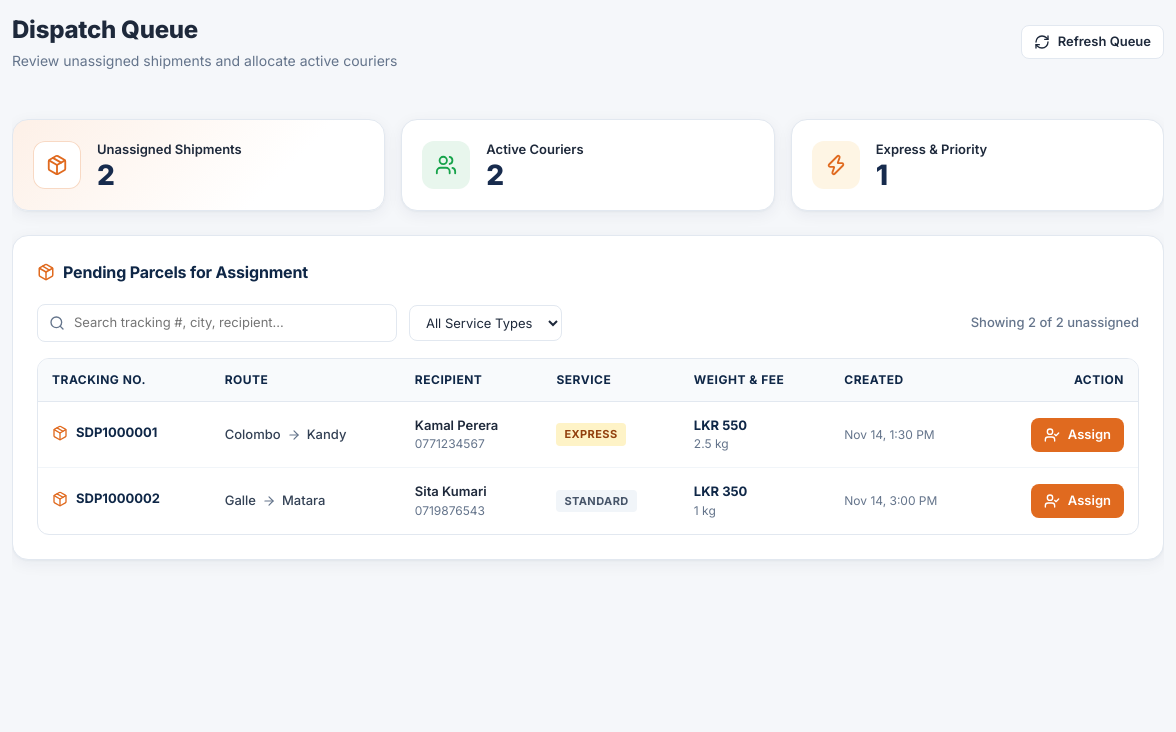
Test: Dispatch Management Page & Assignment Modal - Component Tests › 4. Filters unassigned parcels by search query and service level
Expected: the text "SDP1000001" is shown, [52, 423, 157, 442]
Expected: the text "SDP1000002" is shown, [52, 489, 160, 509]
Search for "Galle"
Type "Galle" into the field named "Filter unassigned parcels". click: point(217, 323)
box: [37, 304, 397, 342]
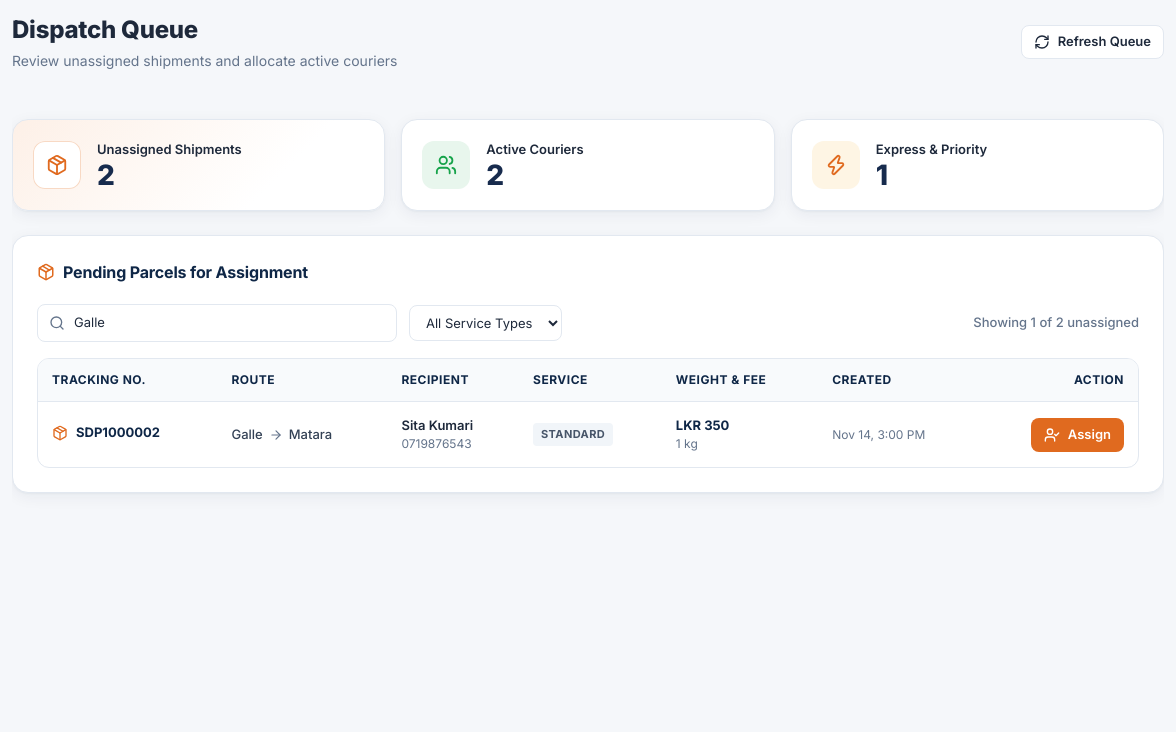
Expected: the text "SDP1000002" is shown, [52, 423, 160, 442]
Expected: the text "SDP1000001" is gone
Reset search
Clear the field named "Filter unassigned parcels". click: point(217, 323)
box: [37, 304, 397, 342]
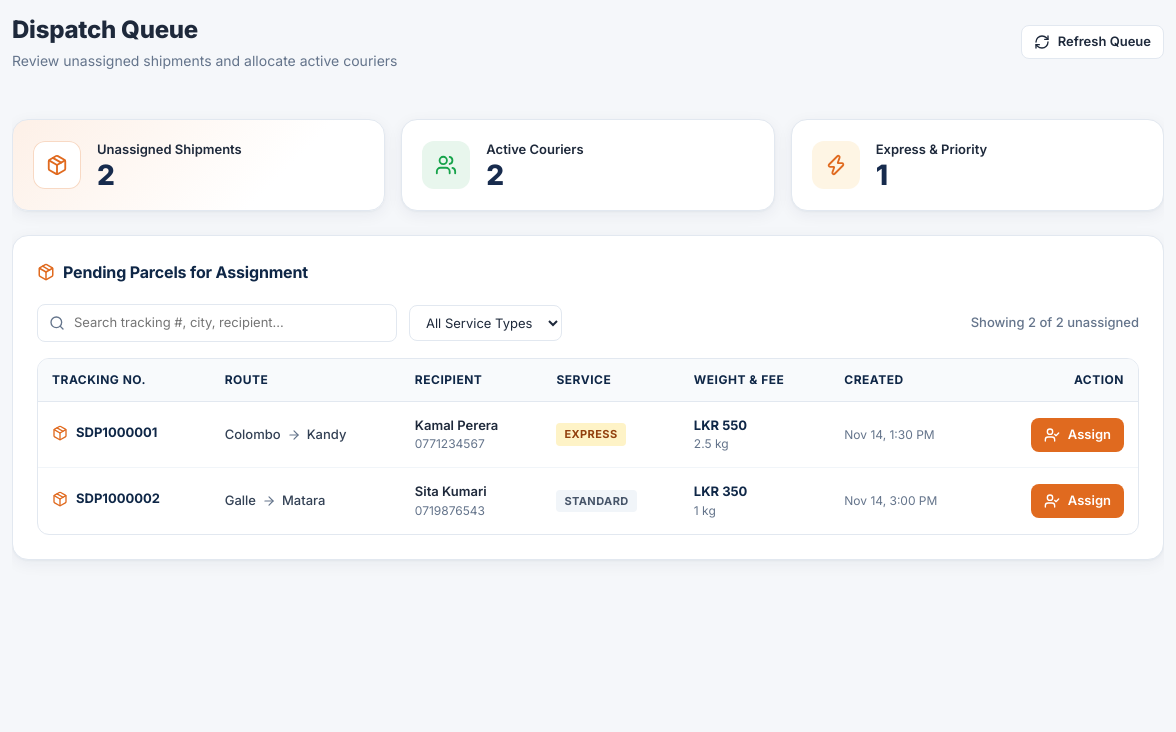
Expected: the text "SDP1000001" is shown, [52, 423, 157, 442]
Filter by Service Type: STANDARD
Select "Standard" in the dropdown named "Filter by service level". click: point(486, 323)
box: [409, 305, 562, 341]
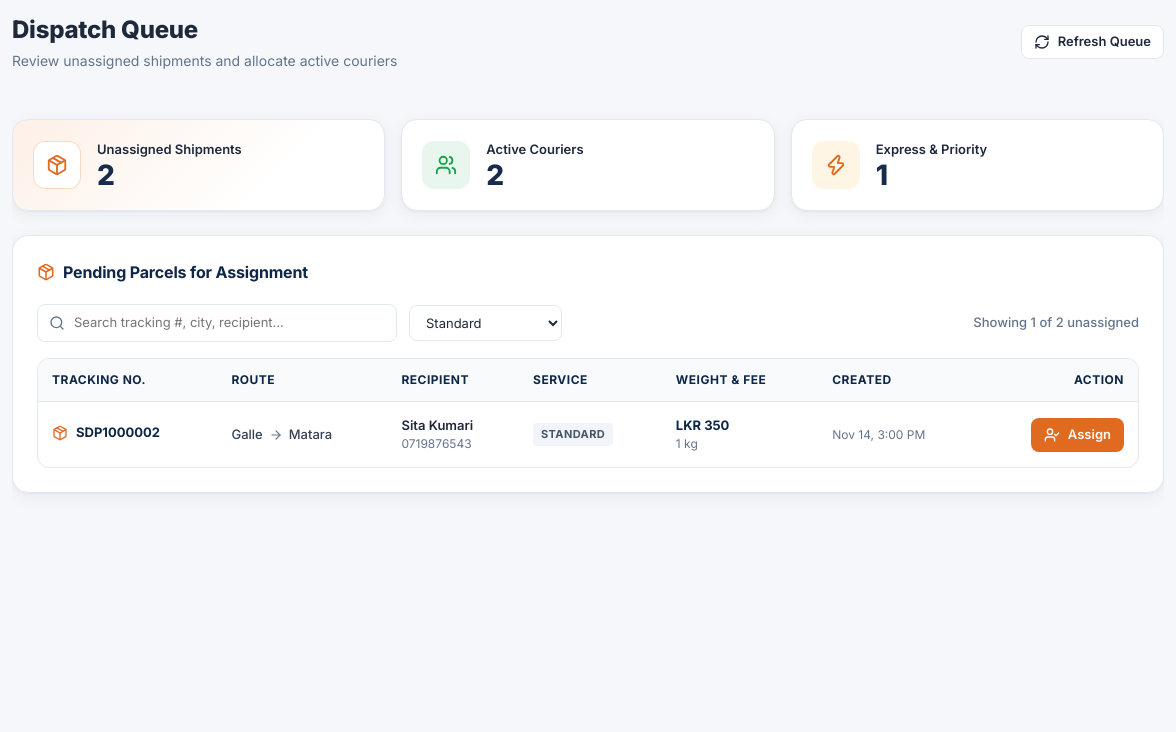
Expected: the text "SDP1000002" is shown, [52, 423, 160, 442]
Expected: the text "SDP1000001" is gone
